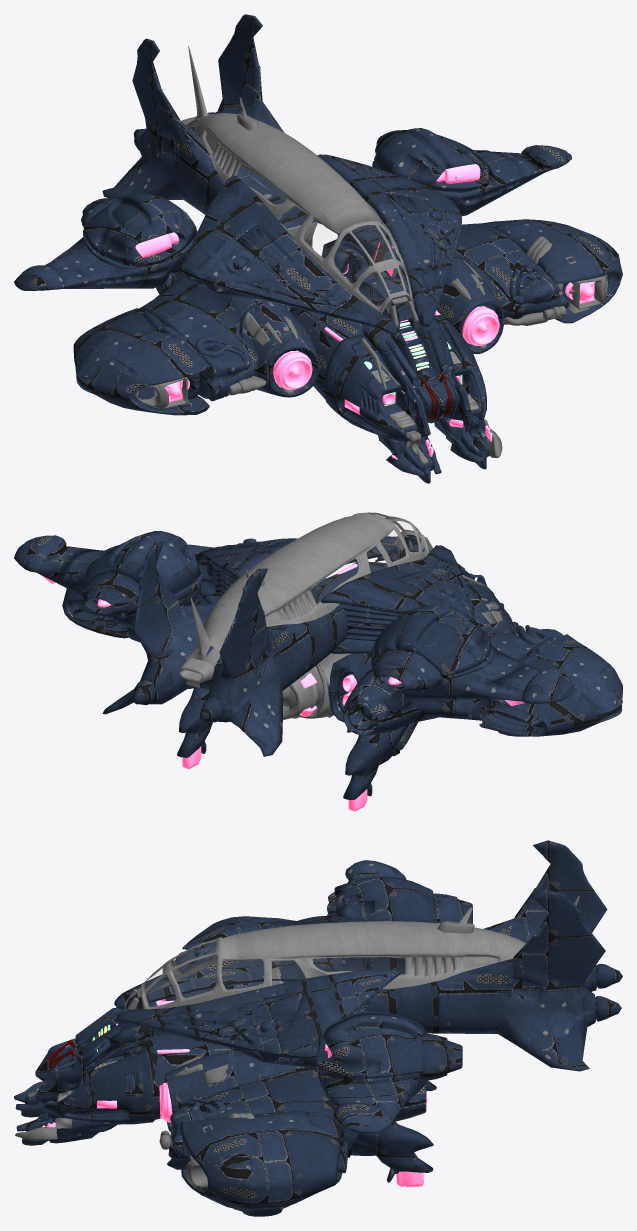
File: cool_alien_spaceship_by_jungle_jim.glb
The picture shows the model from 3 angles, top to bottom: view 1: azimuth 30°, elevation 25°; view 2: azimuth 150°, elevation 25°; view 3: azimuth 270°, elevation 25°; orthographic projection. The views are drawn at different scales.
Visible parts, largest first — view 1: Alien Spaceship part_006, Alien Spaceship part_019, Alien Spaceship part_045, Alien Spaceship part_084, Alien Spaceship part_027, Alien Spaceship part_067, Alien Spaceship part_060, Alien Spaceship part_024, Alien Spaceship part_095, Alien Spaceship part_062, Alien Spaceship part_004, Alien Spaceship part_112 (+9 smaller); view 2: Alien Spaceship part_027, Alien Spaceship part_095, Alien Spaceship part_045, Alien Spaceship part_062, Alien Spaceship part_060, Alien Spaceship part_019, Alien Spaceship part_112, Alien Spaceship part_084, Alien Spaceship part_067, Alien Spaceship part_033, Alien Spaceship part_063, Alien Spaceship part_004 (+5 smaller); view 3: Alien Spaceship part_112, Alien Spaceship part_045, Alien Spaceship part_004, Alien Spaceship part_067, Alien Spaceship part_006, Alien Spaceship part_062, Alien Spaceship part_024, Alien Spaceship part_095, Alien Spaceship part_027, Alien Spaceship part_019, Alien Spaceship part_086, Alien Spaceship part_016 (+4 smaller).
Boxes of the visible parts, x1,y1,x2,y2 form: Alien Spaceship part_006: (323, 301, 489, 483); Alien Spaceship part_019: (179, 175, 397, 335); Alien Spaceship part_045: (186, 46, 414, 314); Alien Spaceship part_084: (138, 272, 319, 401); Alien Spaceship part_027: (14, 193, 197, 290); Alien Spaceship part_067: (317, 154, 461, 326); Alien Spaceship part_060: (73, 308, 209, 415); Alien Spaceship part_024: (337, 223, 568, 354); Alien Spaceship part_095: (102, 38, 224, 214); Alien Spaceship part_062: (372, 128, 571, 216); Alien Spaceship part_004: (483, 219, 622, 323); Alien Spaceship part_112: (208, 14, 321, 228); Alien Spaceship part_027: (370, 605, 574, 703); Alien Spaceship part_095: (200, 568, 348, 756); Alien Spaceship part_045: (186, 512, 429, 687); Alien Spaceship part_062: (14, 531, 202, 627); Alien Spaceship part_060: (479, 634, 622, 736); Alien Spaceship part_019: (321, 545, 474, 653); Alien Spaceship part_112: (102, 541, 289, 714); Alien Spaceship part_084: (343, 600, 563, 735); Alien Spaceship part_067: (194, 536, 397, 604); Alien Spaceship part_033: (343, 722, 417, 799); Alien Spaceship part_063: (282, 624, 351, 719); Alien Spaceship part_004: (62, 544, 212, 638); Alien Spaceship part_112: (365, 889, 621, 1071); Alien Spaceship part_045: (140, 895, 579, 1009); Alien Spaceship part_004: (179, 1111, 347, 1216); Alien Spaceship part_067: (114, 970, 400, 1067); Alien Spaceship part_006: (14, 994, 157, 1145); Alien Spaceship part_062: (316, 1012, 462, 1133); Alien Spaceship part_024: (164, 1052, 426, 1158); Alien Spaceship part_095: (342, 840, 622, 991); Alien Spaceship part_027: (327, 860, 472, 923); Alien Spaceship part_019: (114, 915, 374, 1008); Alien Spaceship part_086: (347, 1121, 433, 1182); Alien Spaceship part_016: (152, 1035, 242, 1119).
Bounding box in the file's own units: 2.83 × 1.36 × 2.68.
10 materials, 4 textured.
